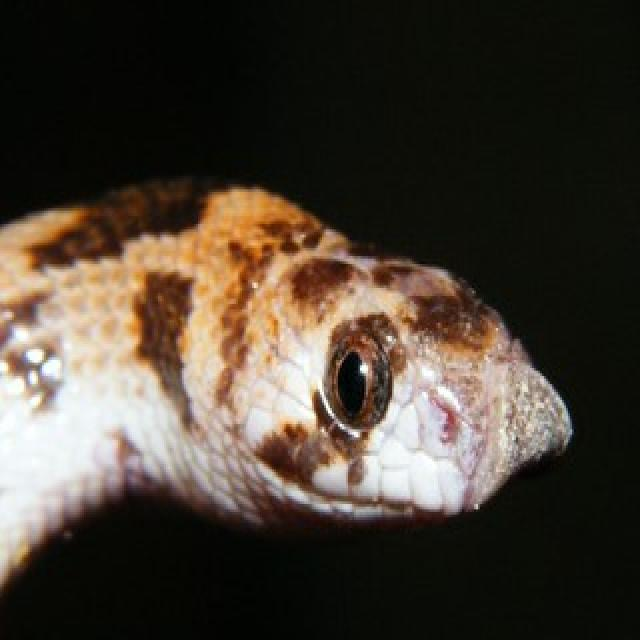Snake: (0, 165, 574, 640)
